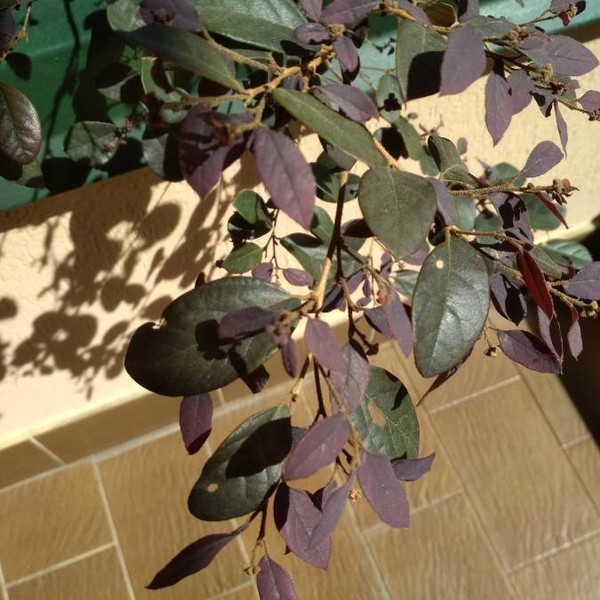obstacle: (47, 31, 492, 539)
